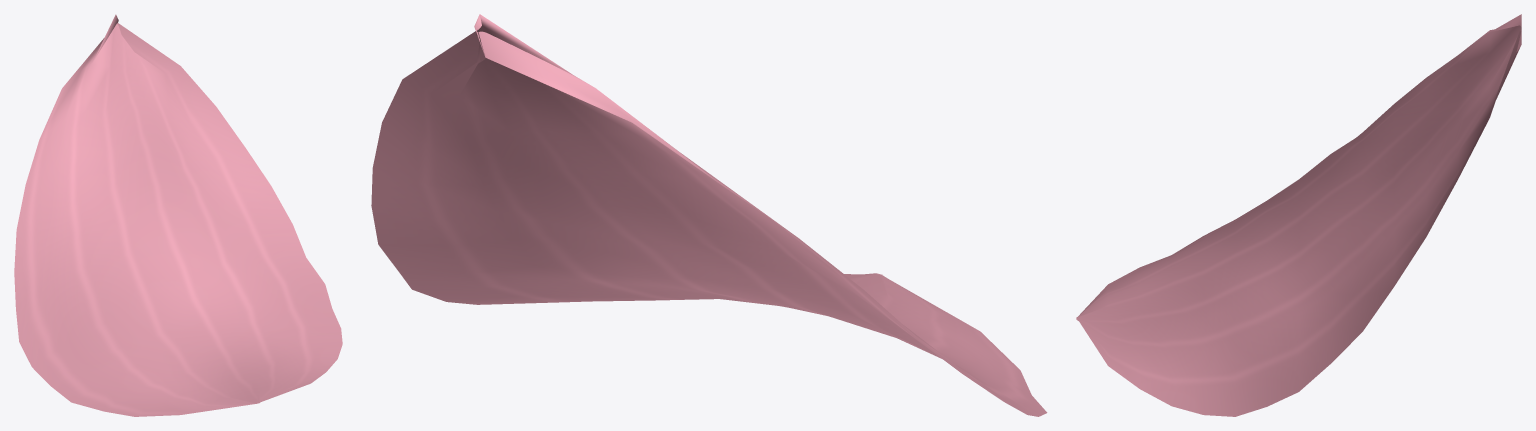
File: petal_04_medium.glb
3 views of the same model, side by side, from view 1: azimuth 30°, elevation 25°; view 2: azimuth 150°, elevation 25°; view 3: azimuth 270°, elevation 25° (orthographic). The views are drawn at different scales.
Visible parts, largest first — view 1: petal_04_medium; view 2: petal_04_medium; view 3: petal_04_medium.
Part boxes in pixels (bbox=[...]): petal_04_medium: bbox=[14, 14, 342, 416]; petal_04_medium: bbox=[371, 14, 1047, 416]; petal_04_medium: bbox=[1076, 14, 1521, 416].
Size of the model in its own units: 0.0819 by 0.0679 by 0.0808.
Materials: 1 (1 with a texture image).
